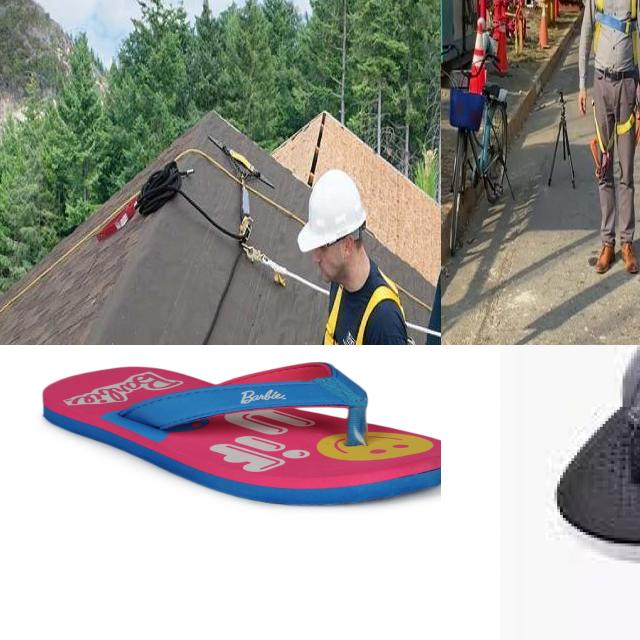Harness: (322, 282, 408, 345), (590, 104, 640, 180), (594, 0, 639, 66)
Sandals: (39, 359, 441, 508), (519, 345, 640, 587)
